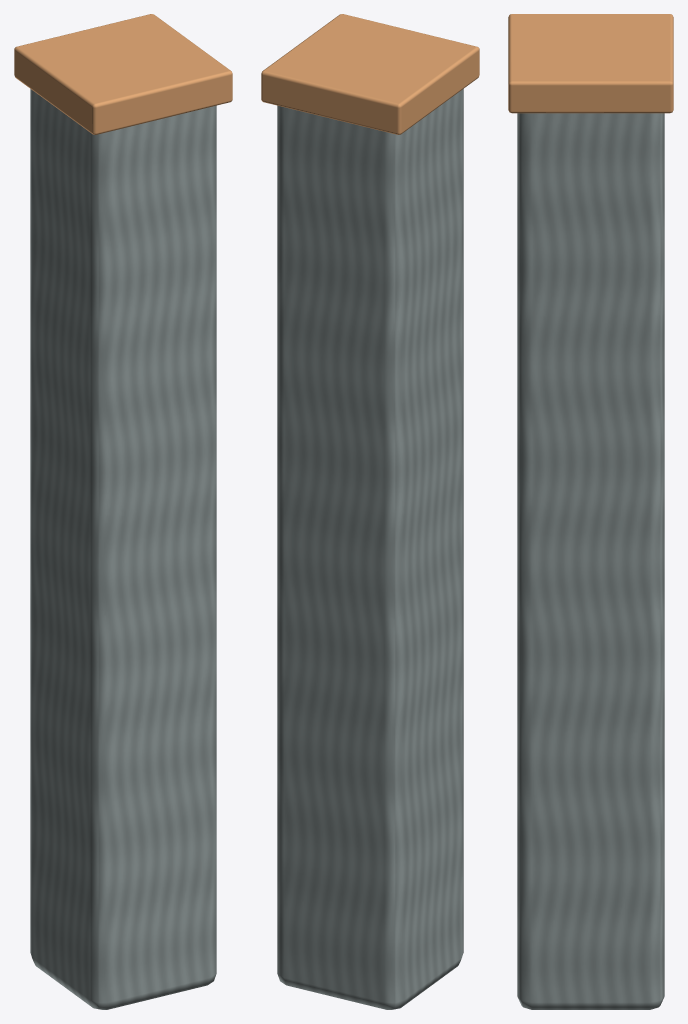
Rendered from dwarven-runeforge-dungeon-dwarven-runeforge-dungeon-ha-3c45ed78__28587.glb.
3 renders of one model, left to right at view 1: azimuth 30°, elevation 25°; view 2: azimuth 150°, elevation 25°; view 3: azimuth 270°, elevation 25°, orthographic. The views are drawn at different scales.
Parts seen in each view (by area): view 1: dwarven-runeforge-dungeon-hall-corner; view 2: dwarven-runeforge-dungeon-hall-corner; view 3: dwarven-runeforge-dungeon-hall-corner.
Boxes of the visible parts, x1,y1,x2,y2 form: dwarven-runeforge-dungeon-hall-corner: [14, 14, 232, 1009]; dwarven-runeforge-dungeon-hall-corner: [261, 14, 479, 1009]; dwarven-runeforge-dungeon-hall-corner: [508, 14, 673, 1009].
Bounding box in the file's own units: 0.56 × 3.5 × 0.56.
Materials: 2 (1 with a texture image).
